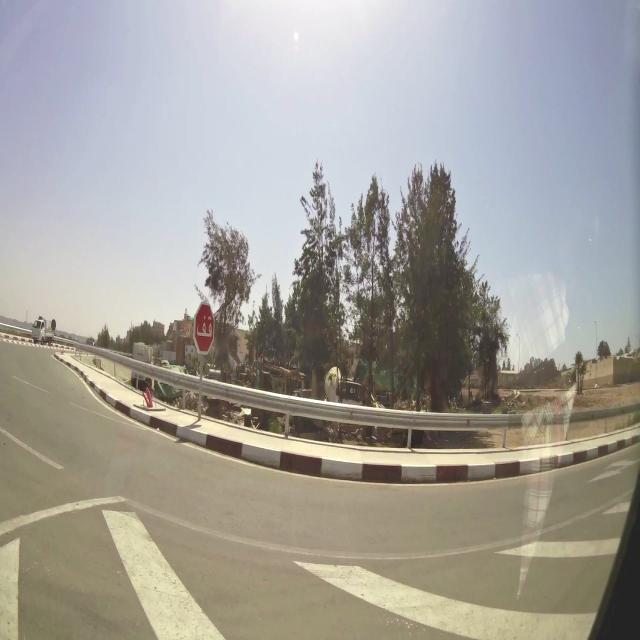car: (30, 317, 56, 347)
